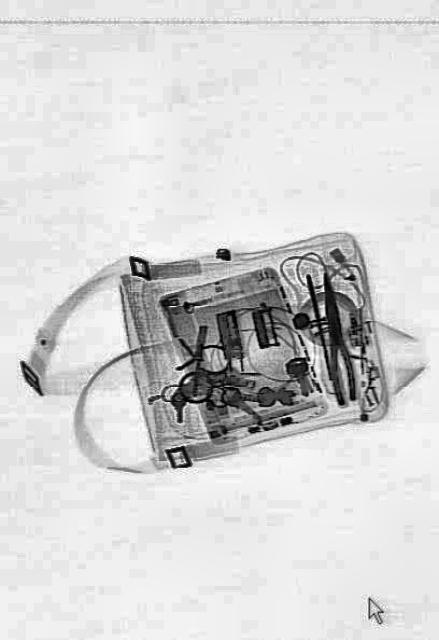Pliers: (312, 269, 358, 406)
